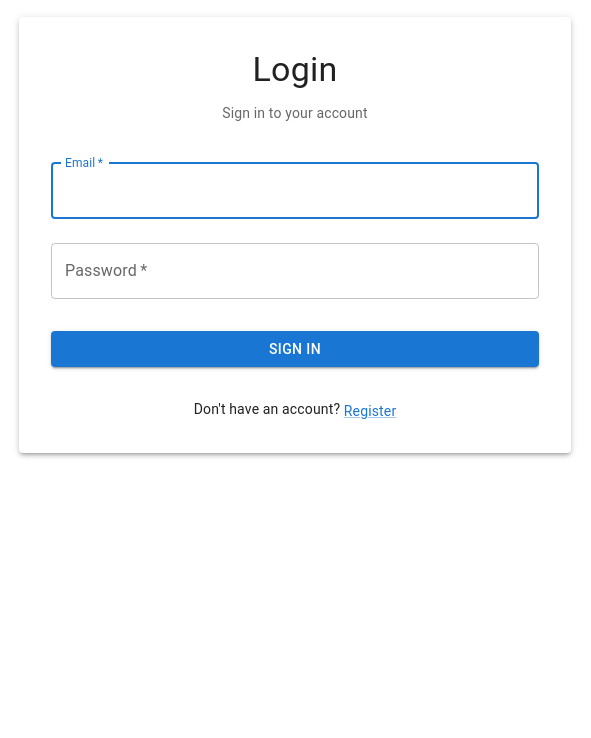
Scenario: Application routes › navigates between login and registration
The width and height of the screenshot is (591, 738).
Expected: the heading "Login" is shown, [252,49,338,89]
What coordinates should you click on to do the following:
click the button "Register"
I would click on:
 (370, 411)
Its box is [344,401,396,421].
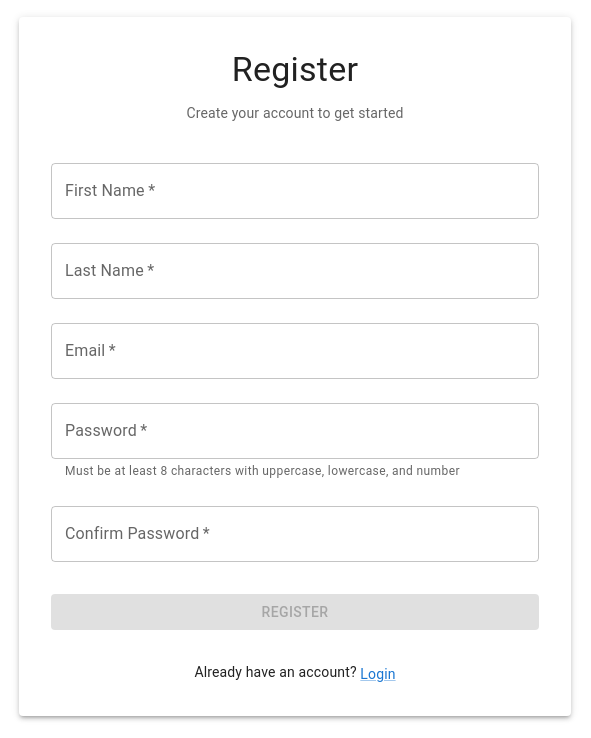
Expected: the heading "Register" is shown, [232,49,358,89]
